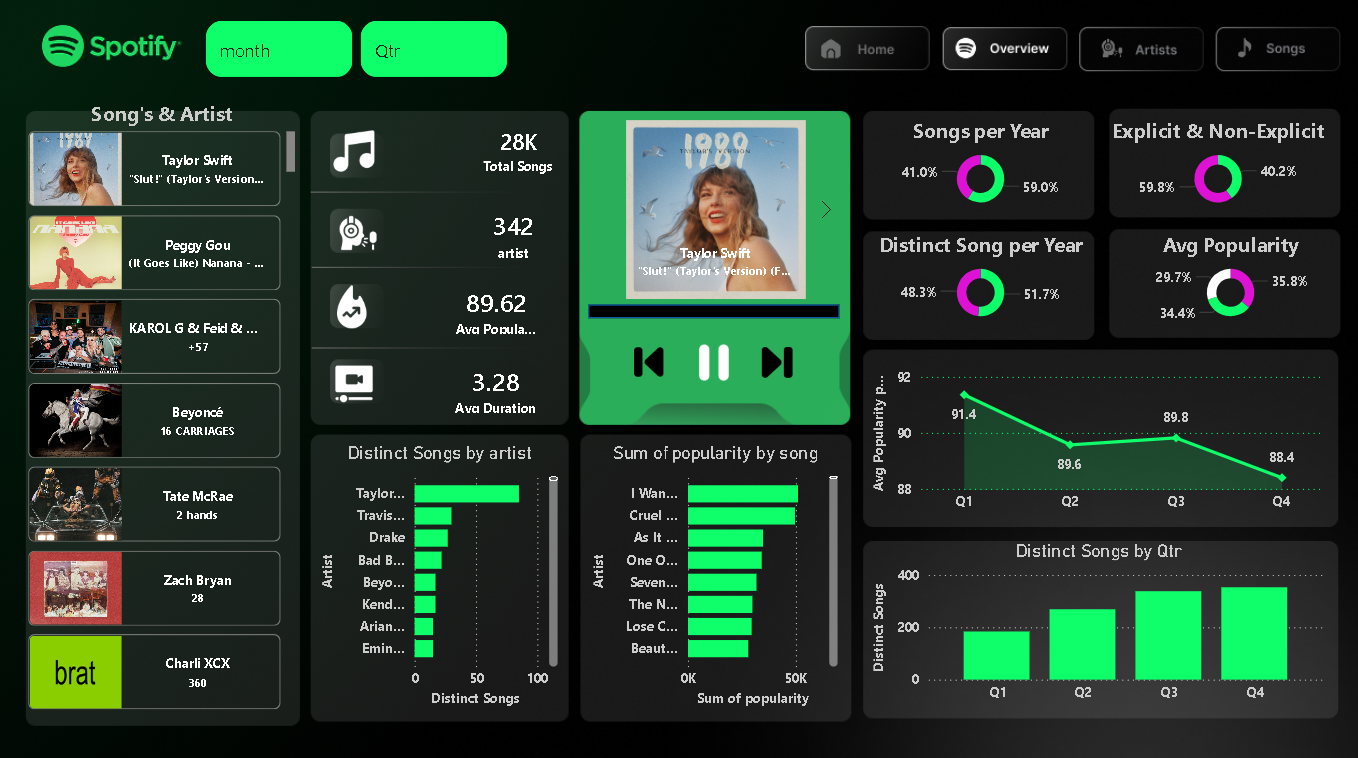

This screenshot's page, from the dashboard's own definition file:
{"tool":"powerbi","page":{"name":"Overview","canvas":[1280,720],"ordinal":1},"visuals":[{"type":"clusteredBarChart","fields":{"Category":["Top-50-world.artist"],"Y":["_Measure.Distinct Songs"]},"box":[301.9,418.5,229.2,251.1],"z":0},{"type":"clusteredBarChart","fields":{"Category":["Top-50-world.song"],"Y":["Sum(Top-50-world.popularity)"]},"box":[554.4,418.5,237.4,251.1],"z":1000},{"type":"lineChart","fields":{"Category":["Top-50-world.month","Top-50-world.Qtr"],"Y":["_Measure.Avg Popularity per Artist"]},"box":[815.1,344.4,429.5,148.2],"z":2000},{"type":"advancedSlicerVisual","fields":{"Values":["slicers 2.slicers"]},"box":[194.2,22.1,291.9,62.8],"z":3000},{"type":"donutChart","title":"Explicit & Non-Explicit","fields":{"Y":["_Measure.Explicit Songs","_Measure.Non-Explicit Songs"]},"box":[1030.5,116.6,220.9,90.6],"z":4000},{"type":"donutChart","title":"Distinct  Song per Year","fields":{"Y":["_Measure.Distinct Songs"],"Category":["Top-50-world.Year"]},"box":[809.6,222.3,220.9,90.6],"z":5000},{"type":"donutChart","title":"Avg Popularity","fields":{"Category":["Top-50-world.album_type"],"Y":["_Measure.Avg Popularity"]},"box":[1041.5,222.3,220.9,90.6],"z":6000},{"type":"donutChart","title":"Songs per Year","fields":{"Y":["_Measure.Total Songs"],"Category":["Top-50-world.Year"]},"box":[809.6,116.6,220.9,90.6],"z":7000},{"type":"columnChart","fields":{"Category":["Top-50-world.month","Top-50-world.Qtr"],"Y":["_Measure.Distinct Songs"]},"box":[815.1,509.1,429.5,160.5],"z":8000},{"type":"cardVisual","fields":{"Data":["_Measure.Total Songs"]},"box":[424,105.7,130.4,82.3],"z":9000},{"type":"cardVisual","fields":{"Data":["Count(Top-50-world.artist)"]},"box":[433.7,184.9,103.5,82.6],"z":10000},{"type":"cardVisual","fields":{"Data":["_Measure.Avg Duration Minutes"]},"box":[400.7,332.1,135.8,76.8],"z":11000},{"type":"cardVisual","fields":{"Data":["_Measure.Avg Popularity per Artist"]},"box":[402.1,259.3,134.5,76.8],"z":12000},{"type":"image","box":[321.1,271.7,39.8,41.2],"z":13000},{"type":"image","box":[321.1,207.2,39.8,34.3],"z":14000},{"type":"image","box":[312.9,344.4,48,41.2],"z":15000},{"type":"image","box":[317,127.6,38.4,39.8],"z":16000},{"type":"advancedSlicerVisual","title":"Song''s & Artist","fields":{"Values":["Top-50-world.song"]},"box":[29.3,99.5,258.1,576.7],"z":17000},{"type":"advancedSlicerVisual","title":"Song''s & Artist","fields":{"Values":["Top-50-world.song"]},"box":[554.7,112.8,237.2,179.1],"z":17001},{"type":"shape","box":[554.7,290.7,233.7,12.8],"z":17002},{"type":"image","box":[651.2,327.9,40.7,33.7],"z":17003},{"type":"image","box":[714,320.9,32.6,47.7],"z":17005},{"type":"image","box":[595.4,319.8,31.4,48.8],"z":17006},{"type":"actionButton","box":[757,33.7,117.4,38.4],"z":17007},{"type":"actionButton","box":[886,33.7,117.4,38.4],"z":17008},{"type":"actionButton","box":[1011.6,33.7,117.4,38.4],"z":17009},{"type":"actionButton","box":[1140.7,33.7,117.4,38.4],"z":17010}]}

Visuals, with their boxes in screenshot pixels (x1, y1, x2, y2), scaled from the page's 1280x720 canvas onto the 1358x758 screenshot:
clusteredBarChart - Top-50-world.artist x _Measure.Distinct Songs: rect(320, 441, 563, 705)
clusteredBarChart - Top-50-world.song x Sum(Top-50-world.popularity): rect(588, 441, 840, 705)
lineChart - Top-50-world.month x Top-50-world.Qtr: rect(865, 363, 1320, 519)
advancedSlicerVisual - slicers 2.slicers: rect(206, 23, 516, 89)
"Explicit & Non-Explicit" donutChart: rect(1093, 123, 1328, 218)
"Distinct  Song per Year" donutChart: rect(859, 234, 1093, 329)
"Avg Popularity" donutChart: rect(1105, 234, 1339, 329)
"Songs per Year" donutChart: rect(859, 123, 1093, 218)
columnChart - Top-50-world.month x Top-50-world.Qtr: rect(865, 536, 1320, 705)
cardVisual - _Measure.Total Songs: rect(450, 111, 588, 198)
cardVisual - Count(Top-50-world.artist): rect(460, 195, 570, 282)
cardVisual - _Measure.Avg Duration Minutes: rect(425, 350, 569, 430)
cardVisual - _Measure.Avg Popularity per Artist: rect(427, 273, 569, 354)
image: rect(341, 286, 383, 329)
image: rect(341, 218, 383, 254)
image: rect(332, 363, 383, 406)
image: rect(336, 134, 377, 176)
"Song''s & Artist" advancedSlicerVisual: rect(31, 105, 305, 712)
"Song''s & Artist" advancedSlicerVisual: rect(589, 119, 840, 307)
shape: rect(589, 306, 836, 320)
image: rect(691, 345, 734, 381)
image: rect(758, 338, 792, 388)
image: rect(632, 337, 665, 388)
actionButton: rect(803, 35, 928, 76)
actionButton: rect(940, 35, 1065, 76)
actionButton: rect(1073, 35, 1198, 76)
actionButton: rect(1210, 35, 1335, 76)
